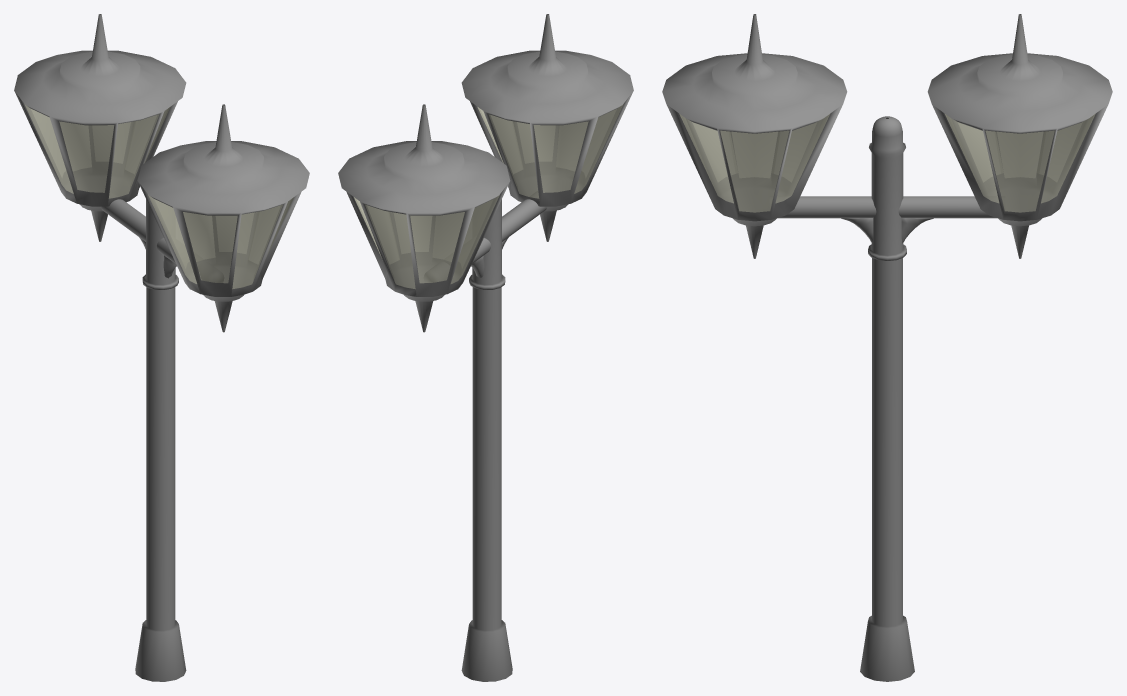
File: Street_lamp_2.fbx
3 renders of one model, left to right at view 1: azimuth 30°, elevation 25°; view 2: azimuth 150°, elevation 25°; view 3: azimuth 270°, elevation 25°, orthographic. The views are drawn at different scales.
Visible parts, largest first — view 1: polySurface4; view 2: polySurface4; view 3: polySurface4.
Part boxes in pixels (box(x1,y1,x2,y2)): polySurface4: box(14, 14, 309, 681); polySurface4: box(338, 14, 633, 681); polySurface4: box(662, 14, 1112, 681).
Bounding box in the file's own units: 0.0858 × 0.3337 × 0.2076.
